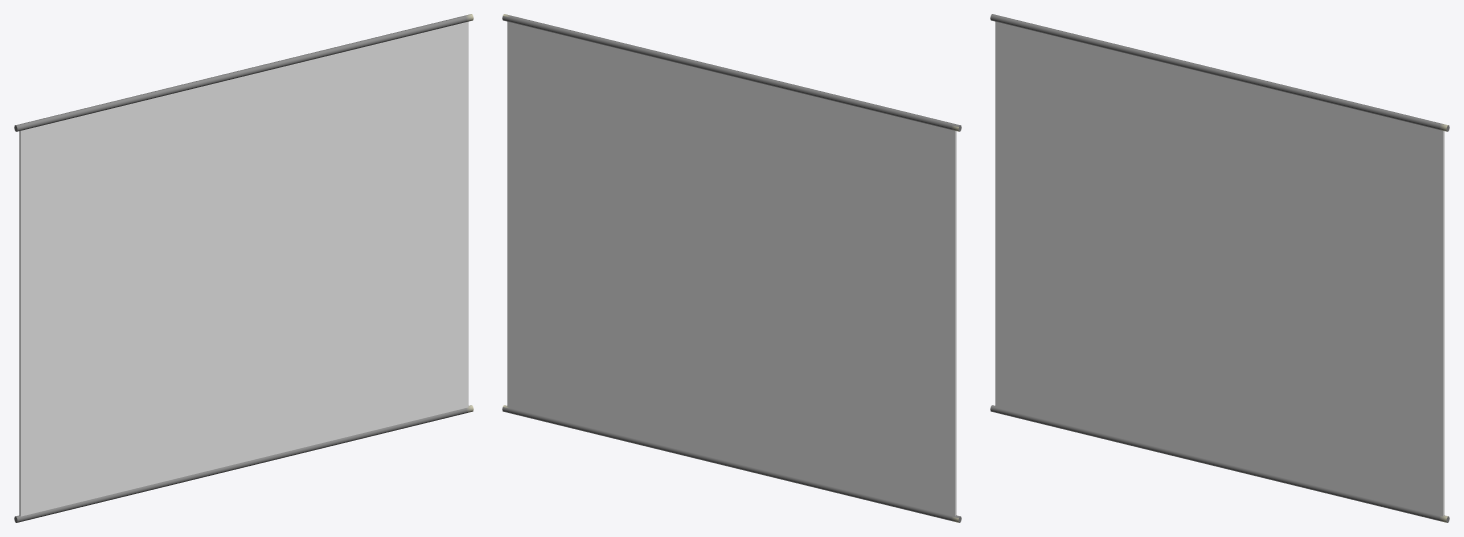
The model's file is board.FBX.
3 renders of one model, left to right at view 1: azimuth 30°, elevation 25°; view 2: azimuth 150°, elevation 25°; view 3: azimuth 330°, elevation 25°, orthographic.
Visible parts, largest first — view 1: board; view 2: board; view 3: board.
Boxes of the visible parts, x1,y1,x2,y2 form: board: (14,14,473,522); board: (502,14,961,522); board: (990,14,1449,522).
Size of the model in its own units: 369 by 308 by 4.57.
